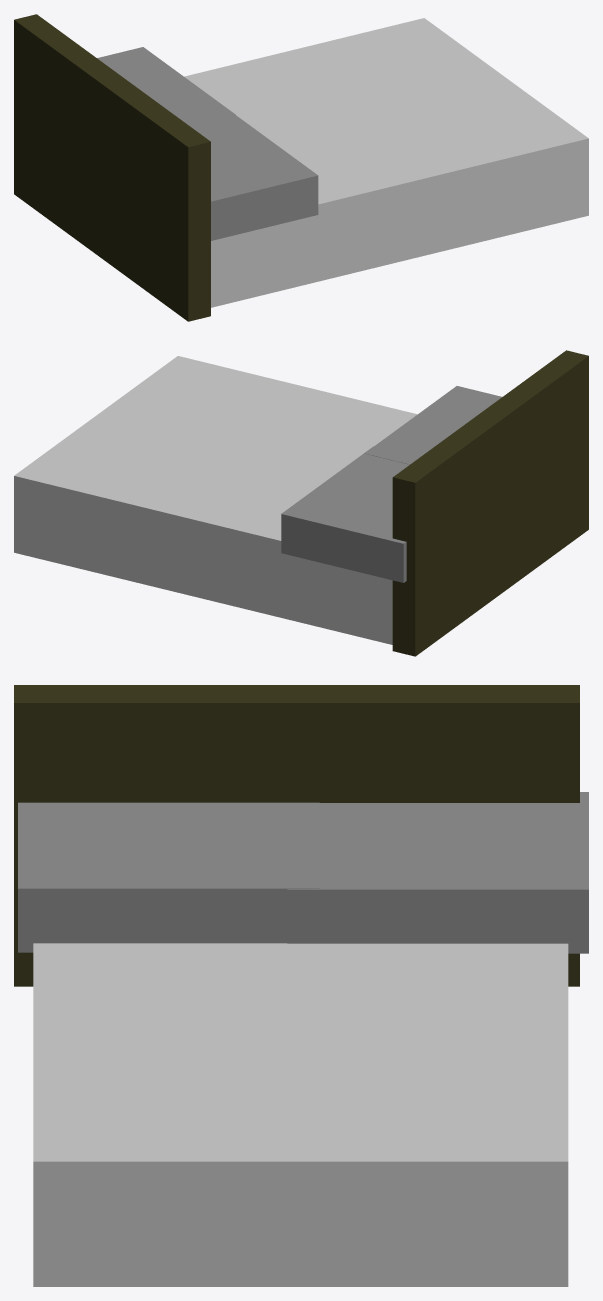
The model's file is Bed.fbx.
3 views of the same model, one above another, from view 1: azimuth 30°, elevation 25°; view 2: azimuth 150°, elevation 25°; view 3: azimuth 270°, elevation 25° (orthographic). The views are drawn at different scales.
Parts seen in each view (by area): view 1: Cube_2, Cube, Cube_1_2, Cube_1; view 2: Cube_2, Cube, Cube_1, Cube_1_2; view 3: Cube_2, Cube, Cube_1_2, Cube_1.
Boxes of the visible parts, x1=… form: Cube_2: x1=184, y1=18, x2=588, y2=307; Cube: x1=14, y1=14, x2=210, y2=321; Cube_1_2: x1=180, y1=107, x2=318, y2=240; Cube_1: x1=97, y1=47, x2=235, y2=118; Cube_2: x1=14, y1=356, x2=417, y2=644; Cube: x1=392, y1=350, x2=588, y2=656; Cube_1: x1=281, y1=446, x2=409, y2=582; Cube_1_2: x1=364, y1=386, x2=501, y2=464; Cube_2: x1=33, y1=943, x2=568, y2=1286; Cube: x1=14, y1=685, x2=579, y2=986; Cube_1_2: x1=18, y1=802, x2=319, y2=952; Cube_1: x1=287, y1=792, x2=588, y2=953.
Bounding box in the file's own units: 488 × 200 × 368.
